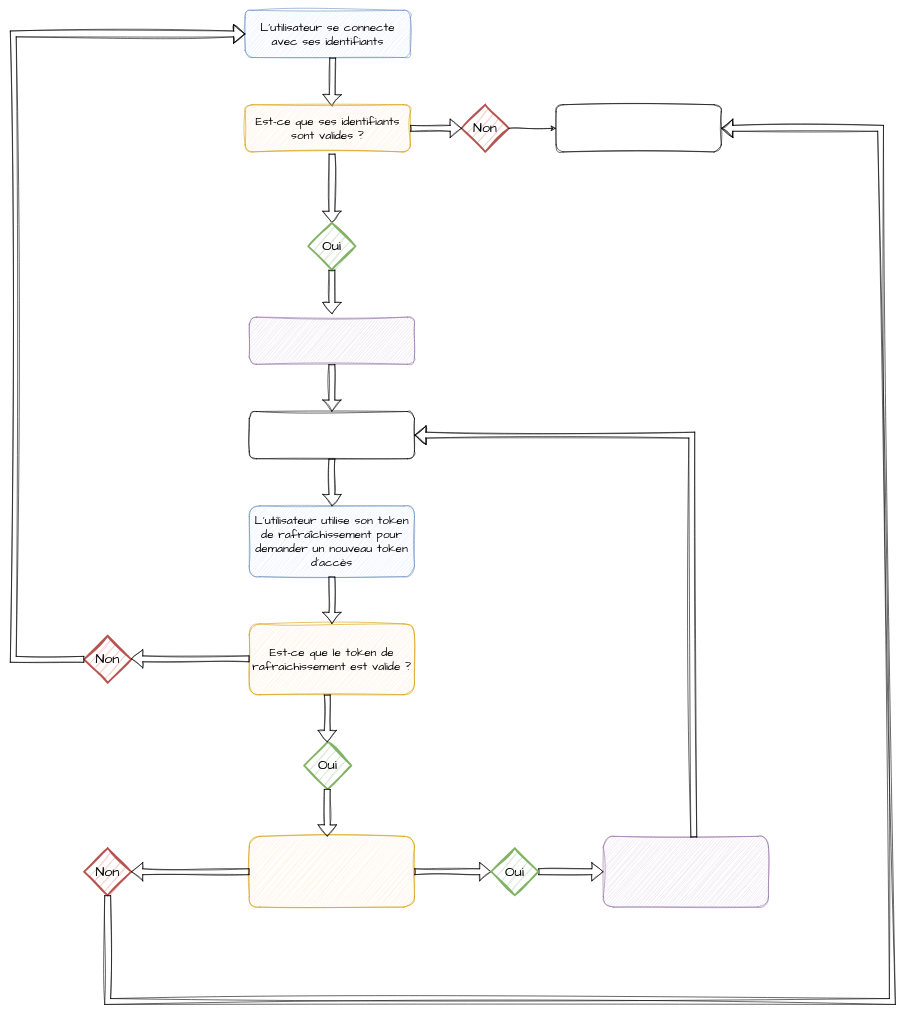
The diagram is 906 pixels wide and 1015 high, and some of its shapes have lost their labels. The centre of each missing label's shape, as x and y in pixels:
"Est-ce que l'utilisateur existe toujours" belongs at (x=331, y=871).
"L'API d'authentification lui redonne un token d'accès" belongs at (x=685, y=871).
"L'API lui envoi 2 tokens : accès et rafraîchissement" belongs at (x=331, y=340).
"L'utilisateur n'a pas accès au système." belongs at (x=638, y=128).
"Le token d'accès n'est plus valide" belongs at (x=331, y=435).
